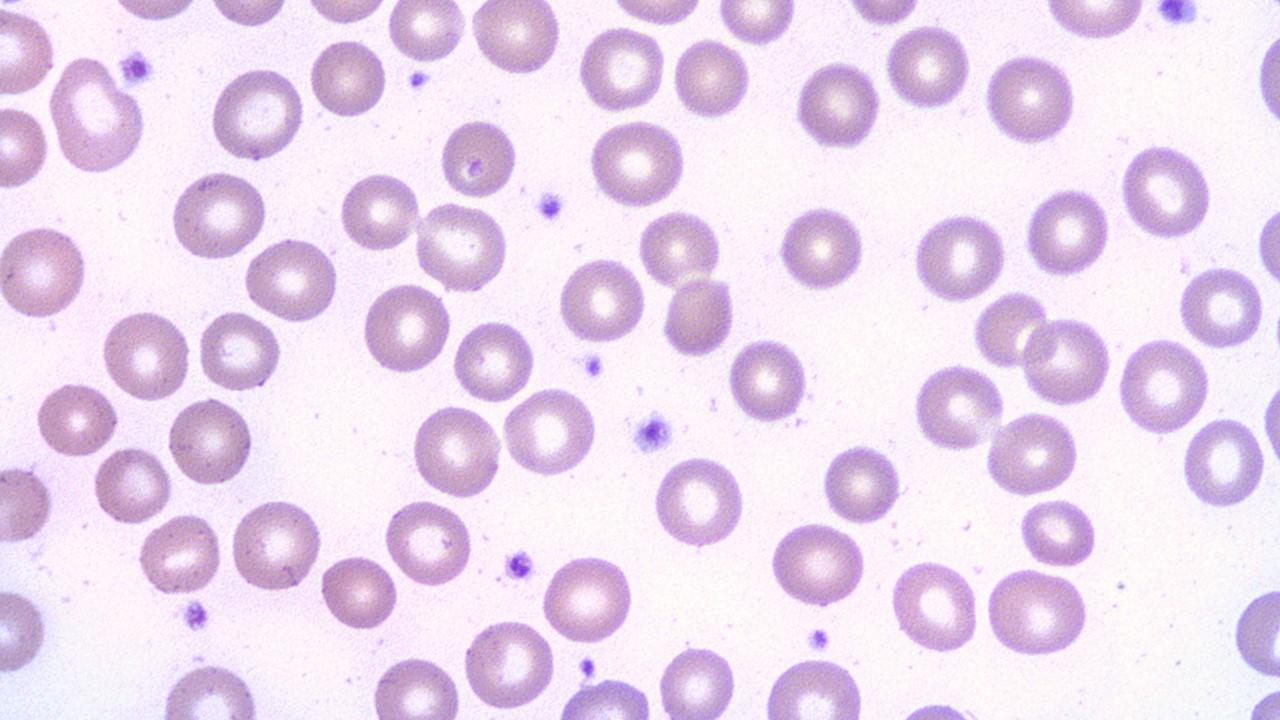Platelets: (628, 408, 676, 458), (117, 46, 157, 89), (178, 595, 213, 636), (1152, 0, 1200, 29), (533, 186, 568, 224), (502, 546, 537, 583), (580, 350, 606, 380), (404, 67, 432, 92)
RBC: (48, 53, 149, 176), (982, 564, 1090, 660), (206, 64, 306, 164), (167, 168, 272, 263), (1117, 140, 1215, 241), (980, 48, 1079, 147), (650, 454, 750, 552), (1114, 334, 1210, 436), (908, 207, 1010, 302), (408, 400, 504, 500), (228, 495, 323, 596), (460, 616, 559, 712), (586, 116, 688, 209), (1018, 312, 1114, 410), (412, 200, 511, 294), (501, 385, 600, 479), (539, 552, 638, 646), (358, 279, 452, 378), (889, 556, 982, 656), (766, 520, 870, 609), (0, 222, 92, 322), (99, 305, 191, 403), (165, 392, 256, 491), (774, 200, 867, 296), (792, 57, 884, 154), (982, 409, 1082, 497), (241, 236, 342, 323), (382, 495, 475, 589), (1021, 183, 1111, 280), (1179, 413, 1267, 512), (910, 362, 1006, 452), (555, 254, 648, 346), (575, 24, 666, 114), (883, 21, 973, 112), (134, 510, 224, 600), (724, 334, 810, 427), (196, 306, 284, 394), (1177, 263, 1265, 348), (450, 316, 535, 404), (636, 206, 725, 290), (670, 34, 753, 123), (819, 439, 903, 526), (337, 167, 420, 255), (468, 1, 562, 78), (438, 114, 520, 201), (308, 33, 388, 121), (153, 656, 266, 718), (655, 638, 740, 720), (658, 272, 736, 361), (758, 654, 868, 717), (318, 550, 400, 634), (91, 444, 173, 526), (33, 378, 116, 459), (368, 652, 465, 720), (971, 290, 1050, 371), (1017, 496, 1101, 568), (0, 3, 58, 99), (1229, 576, 1279, 684), (385, 1, 469, 65), (0, 584, 53, 678), (0, 460, 55, 548), (0, 101, 53, 192), (1040, 0, 1150, 41), (554, 676, 658, 719), (1251, 8, 1279, 145), (716, 1, 798, 47), (202, 0, 294, 30), (606, 0, 707, 27), (103, 0, 207, 25), (297, 0, 392, 27), (1259, 364, 1279, 490), (1255, 190, 1279, 294), (838, 0, 928, 27)
